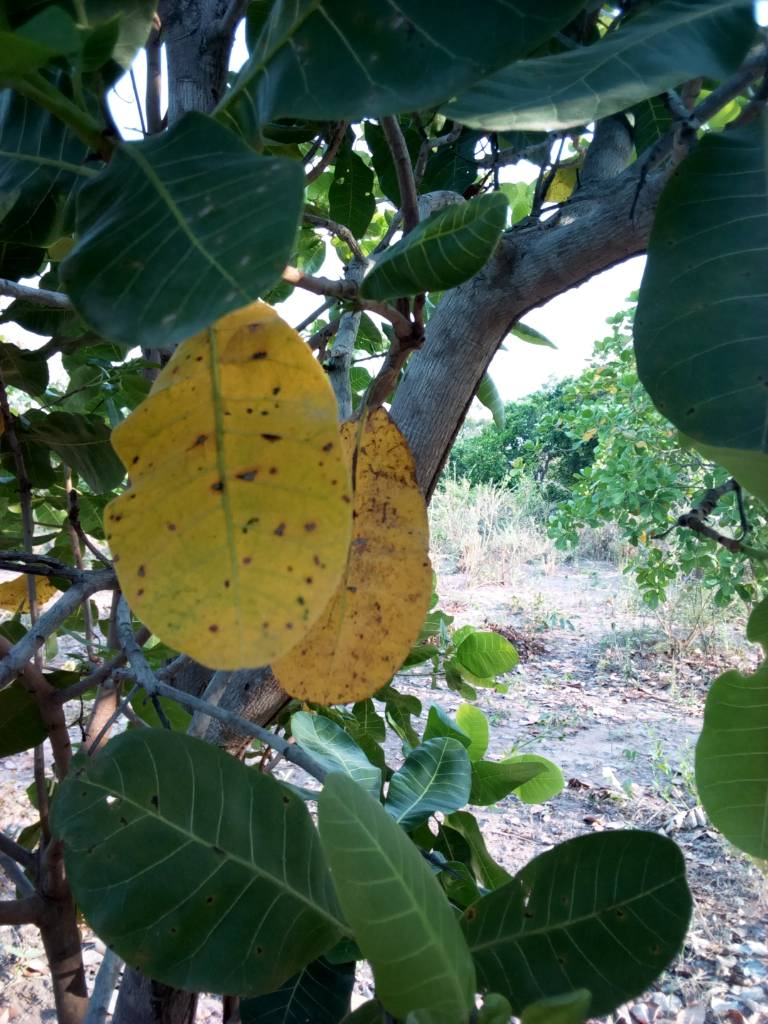Anthracnose: (107, 332, 358, 674), (57, 730, 338, 996), (307, 410, 427, 702)
